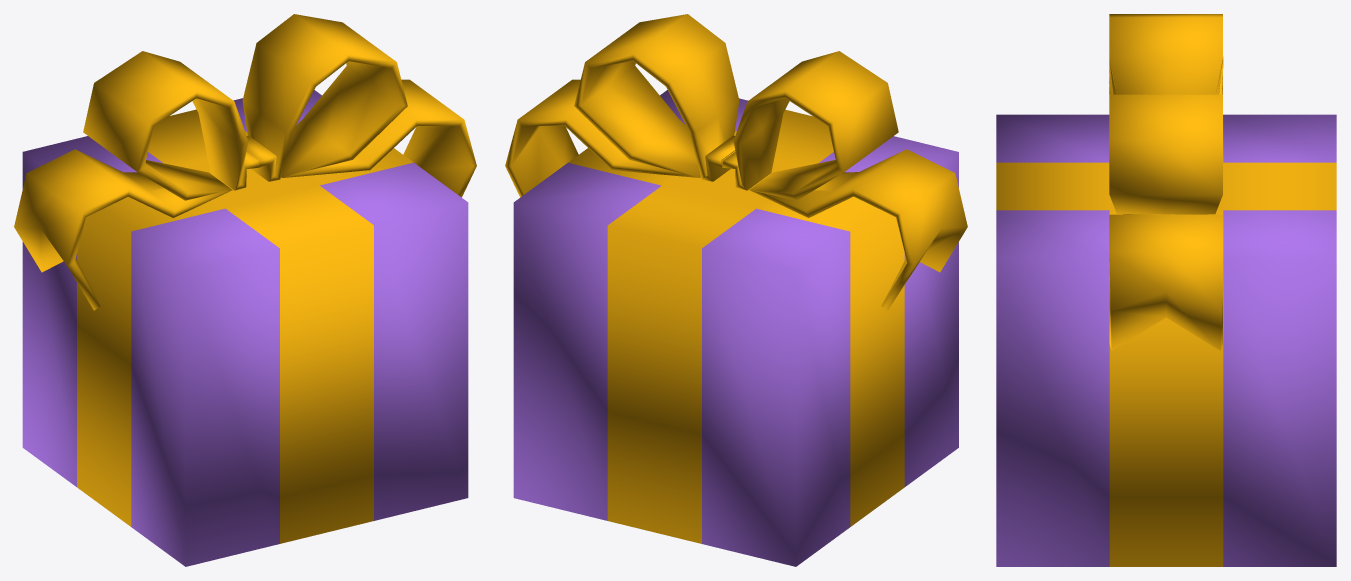
Rendered from char_033_item_gift_box_01_FBX.fbx.
3 renders of one model, left to right at view 1: azimuth 30°, elevation 25°; view 2: azimuth 150°, elevation 25°; view 3: azimuth 270°, elevation 25°, orthographic. The views are drawn at different scales.
Visible parts, largest first — view 1: gift_box, gift.001; view 2: gift_box, gift.001; view 3: gift_box, gift.001.
Boxes of the visible parts, x1,y1,x2,y2 form: gift_box: (22, 90, 468, 566); gift.001: (14, 14, 476, 310); gift_box: (513, 90, 958, 566); gift.001: (505, 14, 967, 310); gift_box: (996, 114, 1336, 566); gift.001: (1109, 14, 1223, 350).
Bounding box in the file's own units: 2.9 × 2.84 × 2.
1 material, 1 textured.
